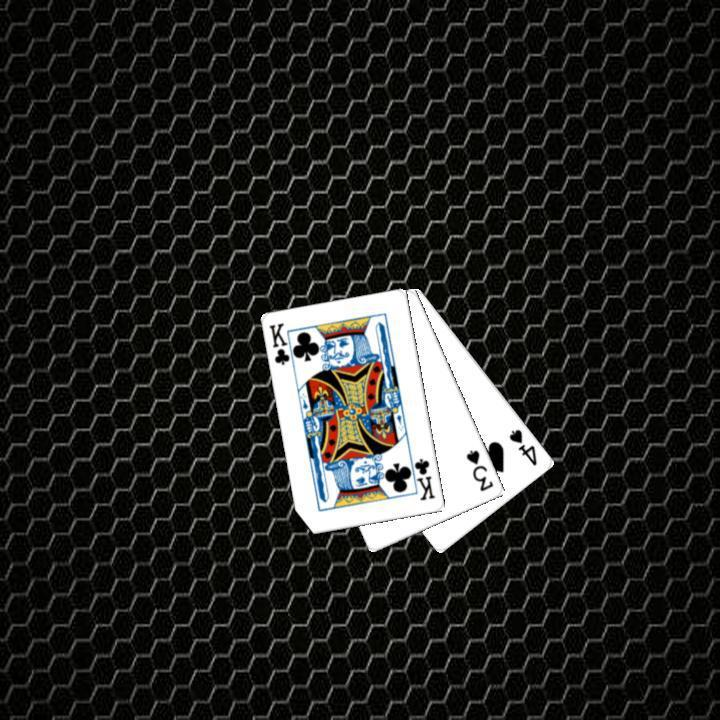3: (462, 446, 496, 493)
4: (505, 425, 539, 468)
K: (405, 452, 437, 503), (265, 319, 297, 370)
